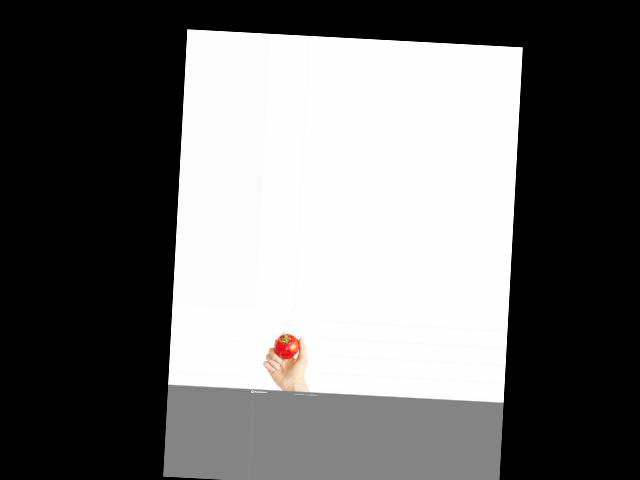tomato: (274, 332, 300, 359)
